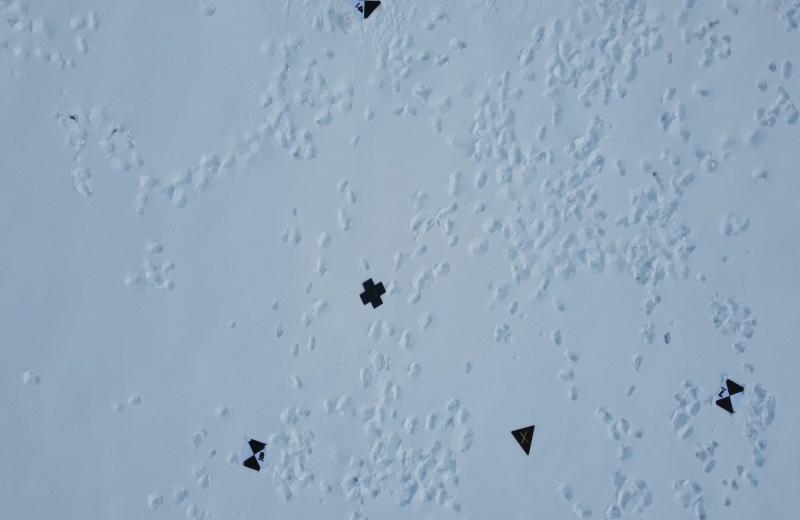Cross: (357, 274, 389, 310)
Triangle: (509, 421, 540, 456)
